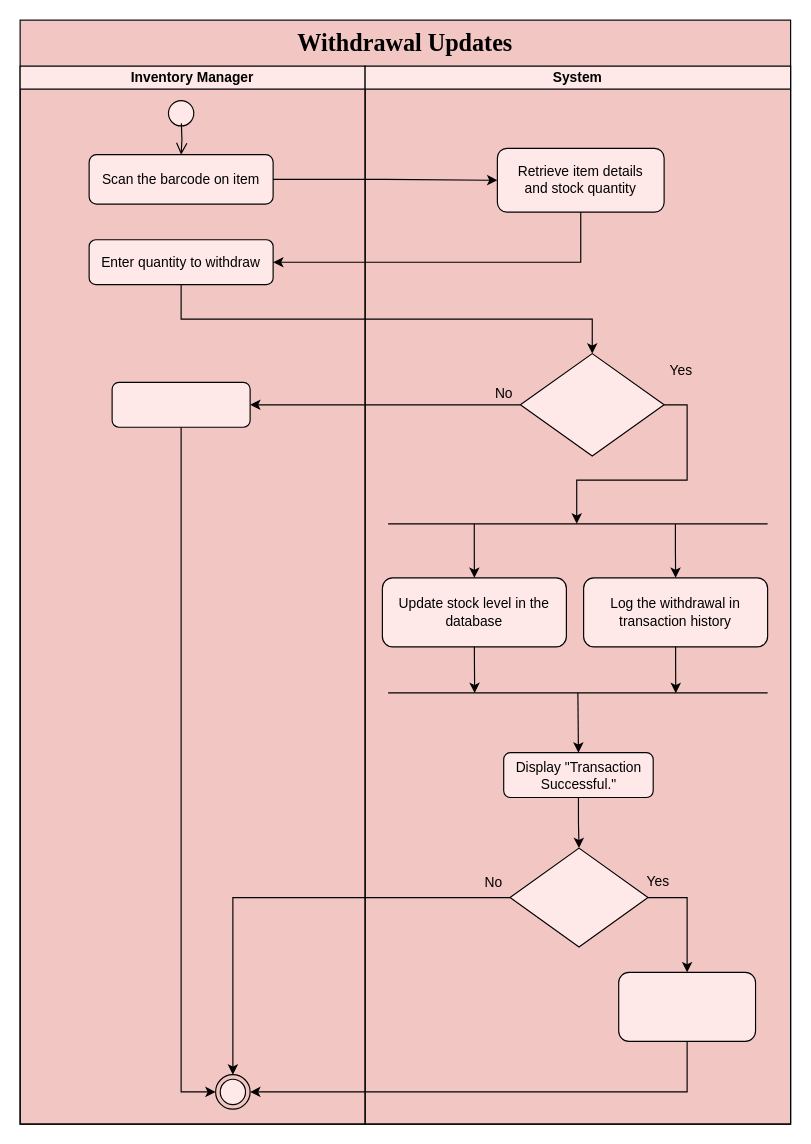
Some shapes in this 811 by 1144 pixel diagram are drawn without their labels. The box of each missing label's shape, as (x1, y1, x2, y2) in pixels:
Display "Not enough stock.": (111, 381, 250, 427)
Send alert to Inventory Manager: (618, 971, 756, 1041)
Stock < Low Stock Threshold?: (509, 847, 648, 947)
Stock > Quantity ?: (519, 352, 664, 456)
